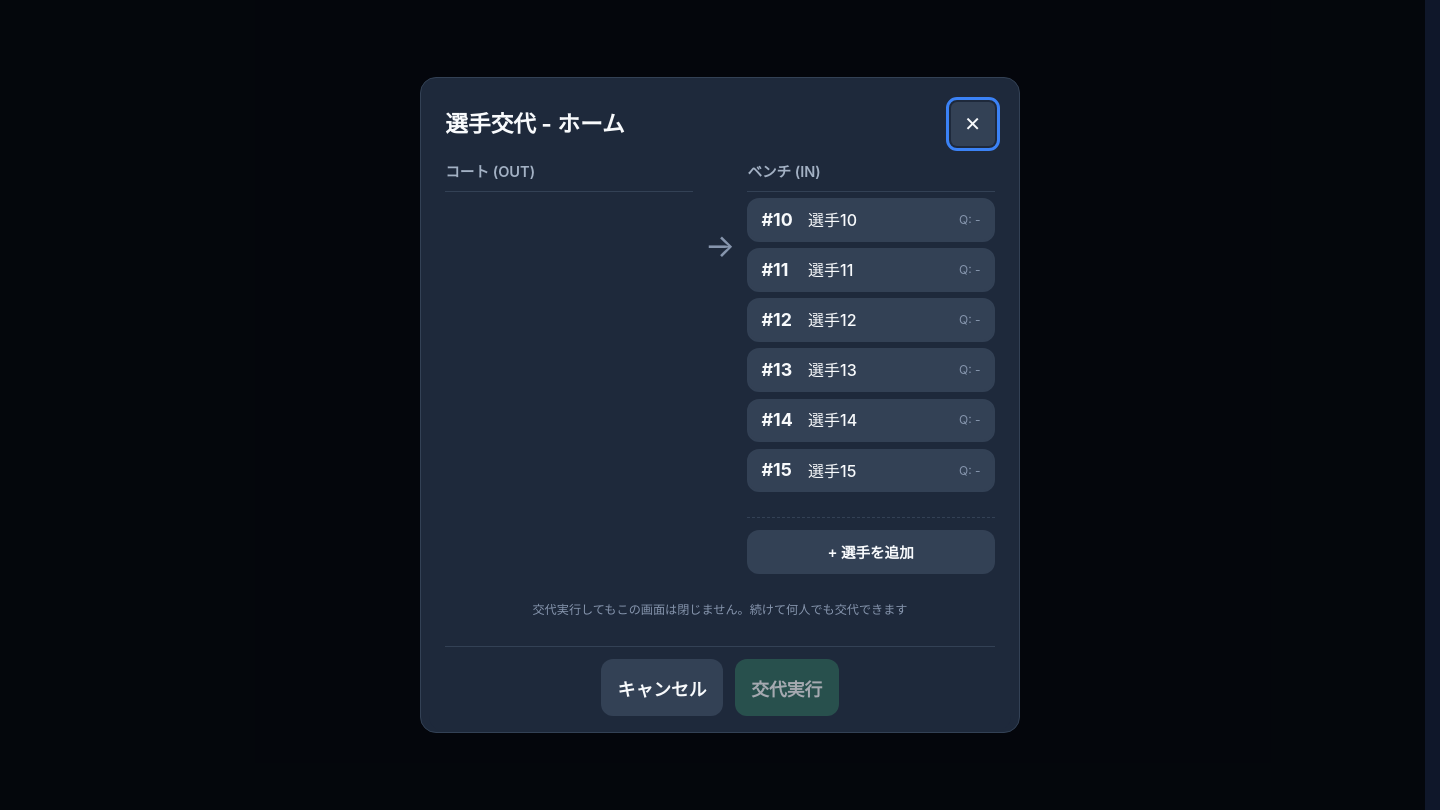
Test: SubstitutionModal: 様式からあふれる選手の案内 › 番号を入れる前でも、あふれること自体は伝える
This screenshot has width=1440, height=810.
Click the button "+ 選手を追加" at (871, 552), box [747,530,995,574]
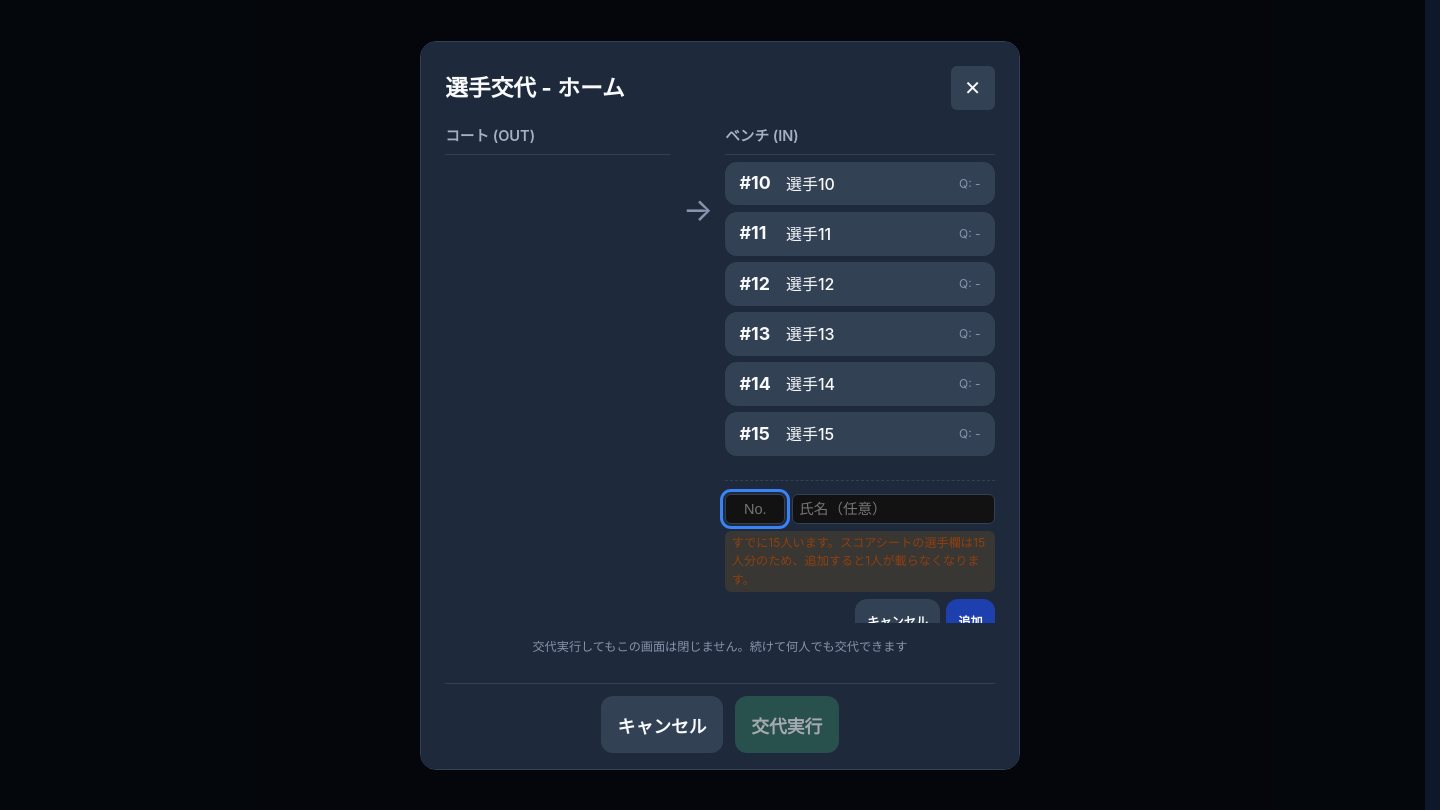
Result: the message with class "add-player-notice" shows "15" at [725,531,995,592]
